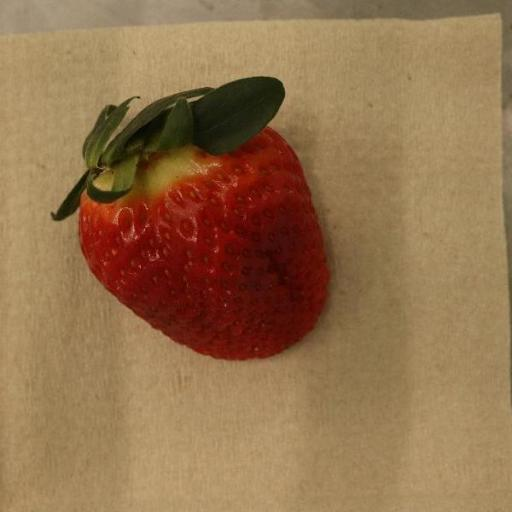Strawberry: (52, 77, 330, 362)
